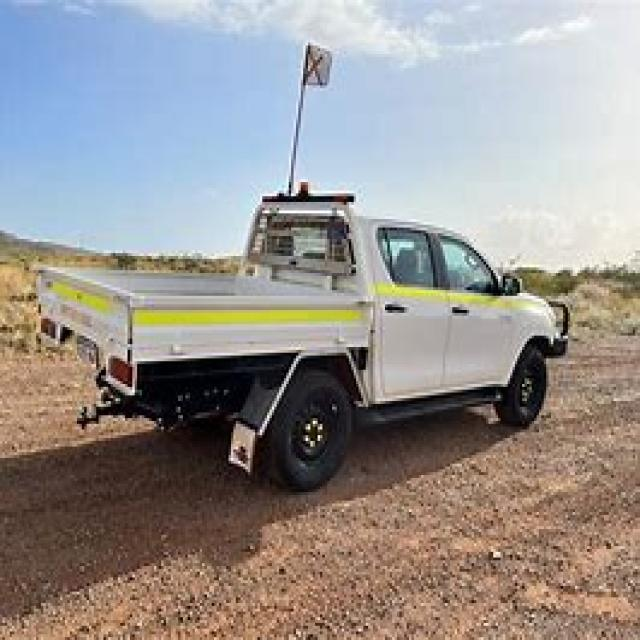light_vehicle: (22, 191, 590, 495)
